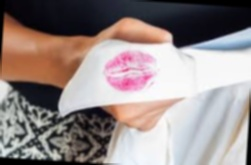lipstick: (102, 52, 160, 93)
